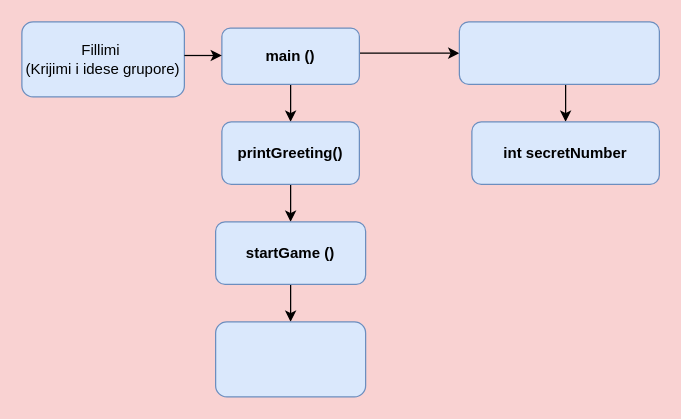
This 681x419 diagram has some shape labels left out. Here are the shapes that lost their labels. From the top down, the centre of each, then its label:
At [558,52]: "generateRabdomNumber()".
At [290,359]: "isGuessCorrect()".
